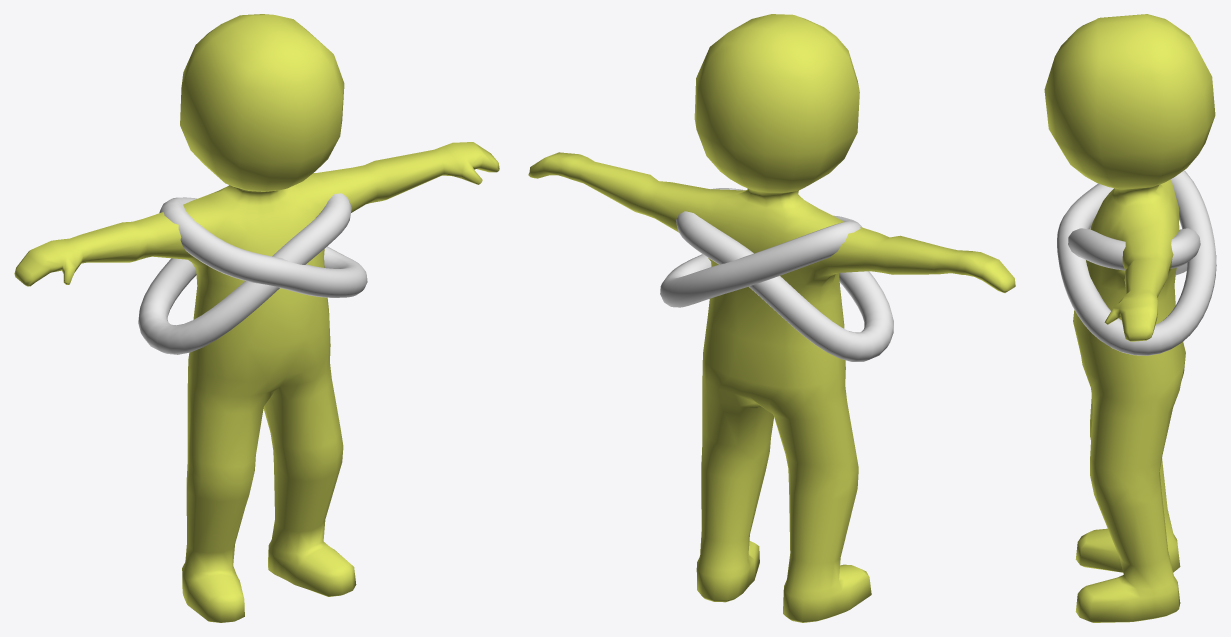
File: stickman yupliblend   and with texture.fbx
3 renders of one model, left to right at view 1: azimuth 30°, elevation 25°; view 2: azimuth 150°, elevation 25°; view 3: azimuth 270°, elevation 25°, orthographic.
Visible parts, largest first — view 1: Mayham.001, BezierCircle.004; view 2: Mayham.001, BezierCircle.004; view 3: Mayham.001, BezierCircle.004.
Part boxes in pixels (bbox=[...]): Mayham.001: bbox=[14, 14, 499, 622]; BezierCircle.004: bbox=[138, 193, 367, 354]; Mayham.001: bbox=[528, 14, 1015, 622]; BezierCircle.004: bbox=[660, 188, 893, 361]; Mayham.001: bbox=[1044, 14, 1215, 622]; BezierCircle.004: bbox=[1057, 170, 1216, 355].
Bounding box in the file's own units: 3.95 × 4.51 × 1.24.
